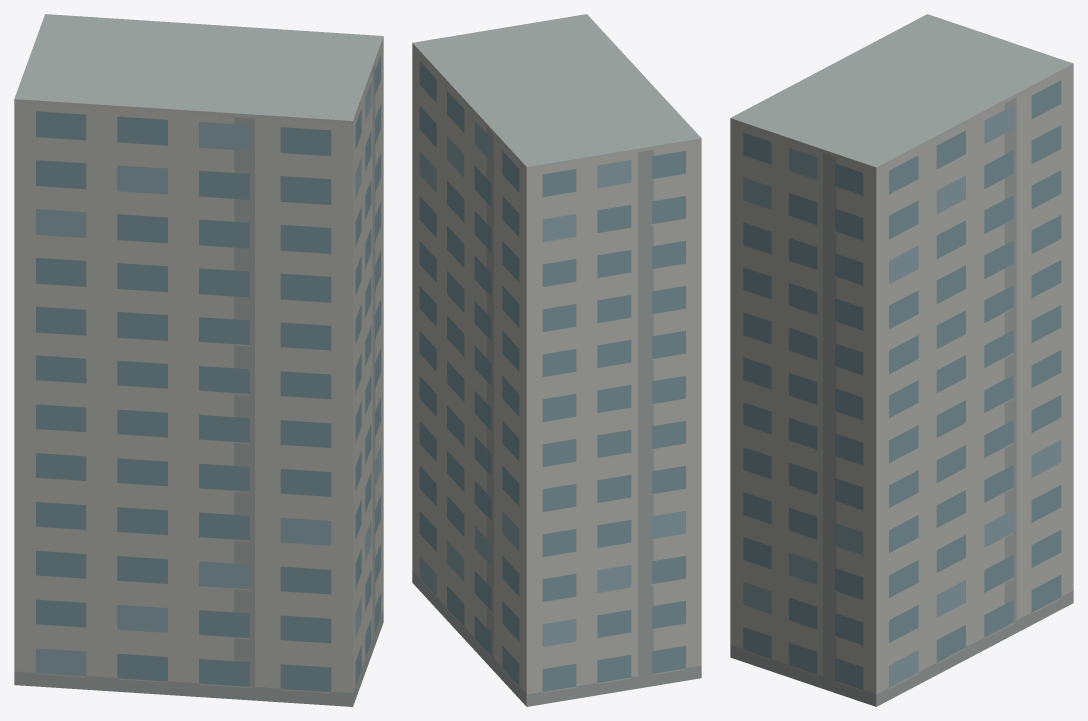
File: residential-c3cec7f0-999c-4c90-bd0e-ed2f6538d58e.glb
3 renders of one model, left to right at view 1: azimuth 30°, elevation 25°; view 2: azimuth 150°, elevation 25°; view 3: azimuth 270°, elevation 25°, orthographic. The views are drawn at different scales.
Visible parts, largest first — view 1: residential-c3cec7f0-999c-4c90-bd0e-ed2f6538d58e.tmp; view 2: residential-c3cec7f0-999c-4c90-bd0e-ed2f6538d58e.tmp; view 3: residential-c3cec7f0-999c-4c90-bd0e-ed2f6538d58e.tmp.
Boxes of the visible parts, left/top/right/bottom form: residential-c3cec7f0-999c-4c90-bd0e-ed2f6538d58e.tmp: left=14, top=14, right=383, bottom=706; residential-c3cec7f0-999c-4c90-bd0e-ed2f6538d58e.tmp: left=412, top=14, right=701, bottom=706; residential-c3cec7f0-999c-4c90-bd0e-ed2f6538d58e.tmp: left=730, top=14, right=1073, bottom=706.
Size of the model in its own units: 22.59 by 37 by 21.36.
